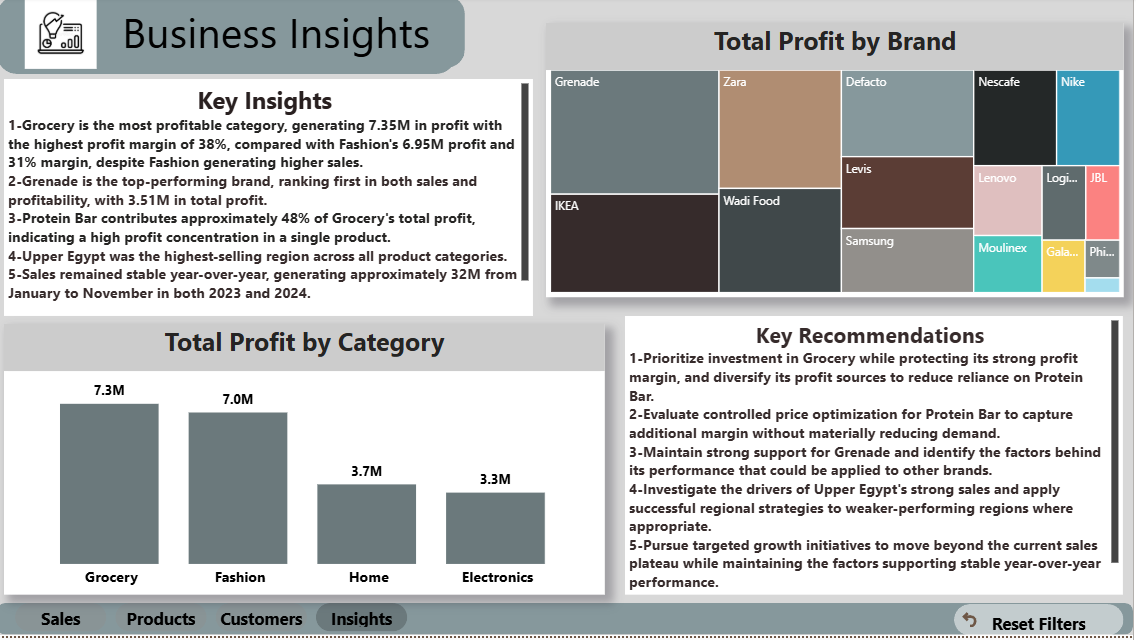

The dashboard page shown, as its layout file describes it:
{"tool":"powerbi","page":{"name":"Insights","canvas":[1280,720],"ordinal":3},"visuals":[{"type":"shape","box":[0,0,517.2,87.9],"z":0},{"type":"shape","box":[102.9,0,424.7,80.8],"z":3000},{"type":"shape","box":[0,684.4,1280,35.6],"z":4000},{"type":"pageNavigator","box":[20,684.4,445.6,32.2],"z":5000},{"type":"actionButton","box":[1078.5,684.7,191.1,35.6],"z":6000},{"type":"image","box":[20.6,1.5,102.9,80.8],"z":7000},{"type":"treemap","fields":{"Values":["Sales.Total Profit"],"Group":["Products.Brand"]},"box":[618.6,30.4,651.3,308.7],"z":8000},{"type":"columnChart","fields":{"Category":["Products.Category"],"Y":["Sales.Total Profit"]},"box":[7.9,369.6,677.2,305.4],"z":9000},{"type":"textbox","box":[7.9,93.5,596.1,253.5],"z":10000},{"type":"textbox","box":[707.6,360.6,561.1,314.4],"z":10001}]}

Visuals, with their boxes in screenshot pixels (x1, y1, x2, y2), scaled from the page's 1280x720 canvas onto the 1136x640 screenshot:
shape: <bbox>0, 0, 459, 78</bbox>
shape: <bbox>91, 0, 468, 72</bbox>
shape: <bbox>0, 608, 1135, 639</bbox>
pageNavigator: <bbox>18, 608, 413, 637</bbox>
actionButton: <bbox>957, 609, 1127, 639</bbox>
image: <bbox>18, 1, 110, 73</bbox>
treemap - Sales.Total Profit x Products.Brand: <bbox>549, 27, 1127, 301</bbox>
columnChart - Products.Category x Sales.Total Profit: <bbox>7, 329, 608, 600</bbox>
textbox: <bbox>7, 83, 536, 308</bbox>
textbox: <bbox>628, 321, 1126, 600</bbox>
